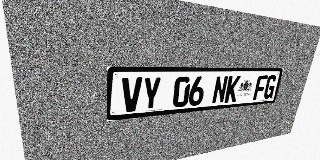0: (172, 76, 191, 108)
6: (188, 76, 206, 106)
F: (253, 75, 268, 100)
G: (263, 75, 278, 99)
K: (224, 76, 241, 103)
N: (211, 76, 229, 104)
V: (121, 77, 142, 113)
Y: (141, 77, 162, 111)
